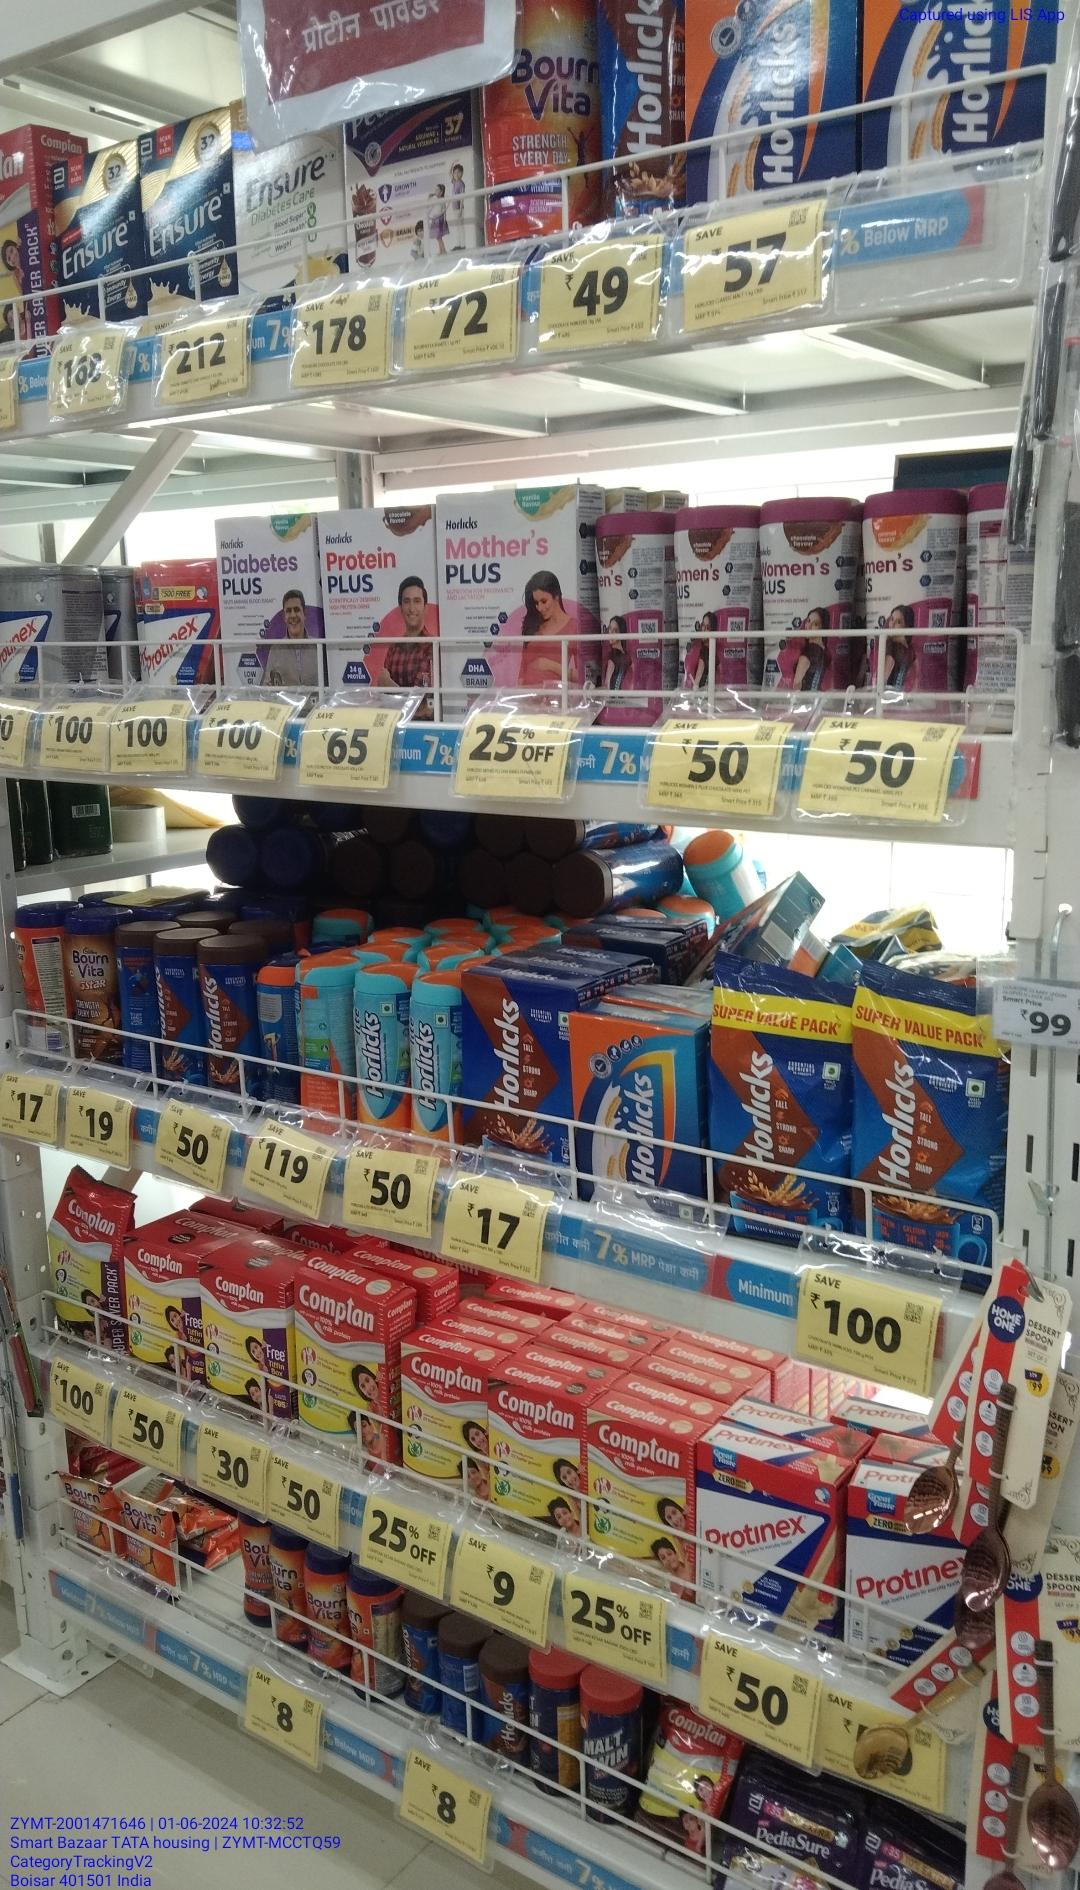BOURN_VITA_200_G_JAR: (309, 1552, 349, 1680), (271, 1528, 306, 1658), (240, 1515, 270, 1629)
BOURN_VITA_75_G_POUCH: (122, 1494, 173, 1598), (66, 1477, 114, 1555)
BOURN_VITA_FIVE_STAR_MAGIC_500_G_JAR: (65, 913, 117, 1074)
COMPLAN_CHOCOLATE_500_GMS_PACK: (487, 1380, 584, 1549)
COMPLAN_KESAR_BADAM_500_GMS_PACK: (587, 1411, 692, 1599), (402, 1345, 485, 1498)
COMPLAN_RC_POUCH_700_GMS_12: (48, 1177, 122, 1360), (652, 1706, 722, 1856)
ENSURE_VANILLA_400_G_PACK: (145, 119, 230, 315), (55, 151, 139, 318)
HORLICKS_LITE_REGULAR_MALT_500_GM_JAR: (354, 964, 405, 1151), (410, 977, 458, 1167)
HORLICK_CHOCOLATE_200_G_JAR: (480, 1658, 530, 1778), (404, 1606, 436, 1711)
HORLICK_CHOCOLATE_500_G_JAR: (200, 944, 257, 1119), (154, 932, 197, 1098)
HORLICK_CHOCOLATE_500_G_PACK: (463, 975, 569, 1177)
HORLICK_CHOCOLATE_750_G_POUCH: (853, 970, 1001, 1292), (713, 958, 846, 1238)
HORLICK_CLASSIC_MALT_500_G_PACK: (569, 1015, 697, 1221)
PROTINEX_CHOCOLATE_400_G_JAR: (135, 561, 212, 700)
PROTINEX_ORIGINAL_400_G_JAR: (0, 566, 55, 705)
